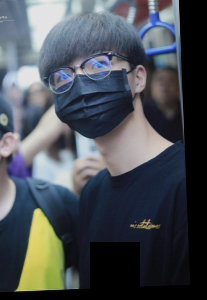with_mask: (50, 47, 137, 139)
